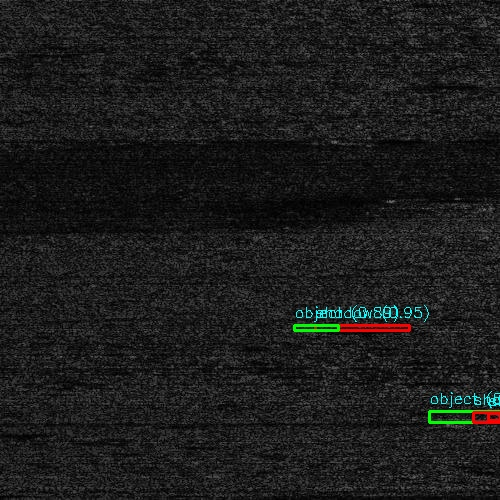rock: (416, 411, 500, 426), (296, 325, 337, 330)
shadow: (317, 325, 404, 330)
